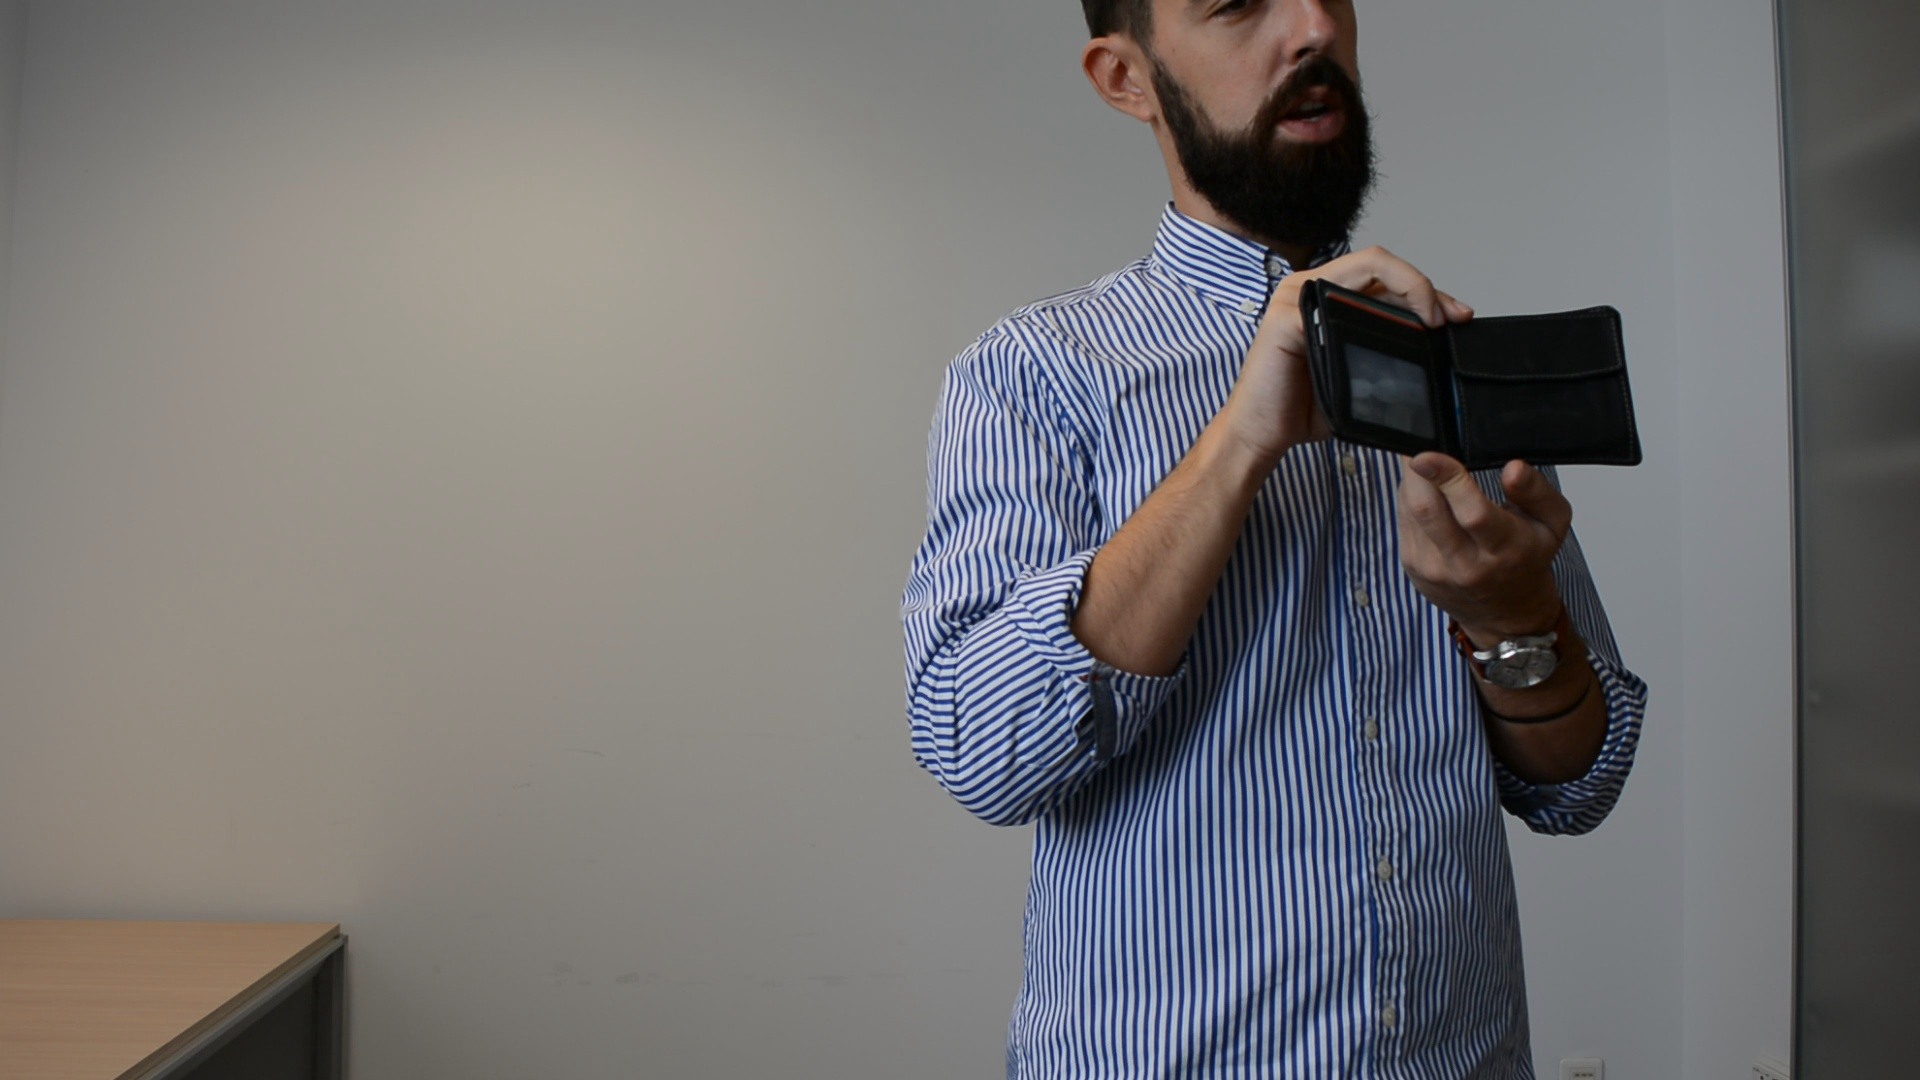monedero: (1295, 276, 1647, 473)
